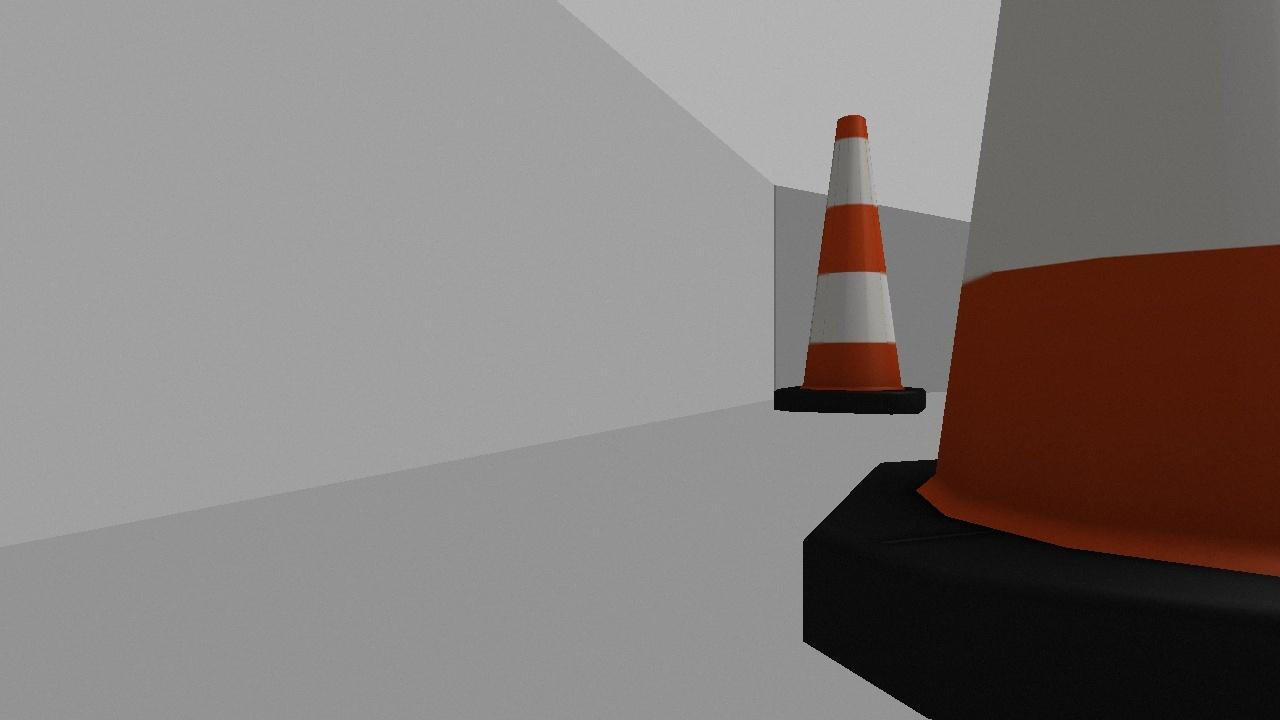cone_barrel: (768, 113, 935, 429)
